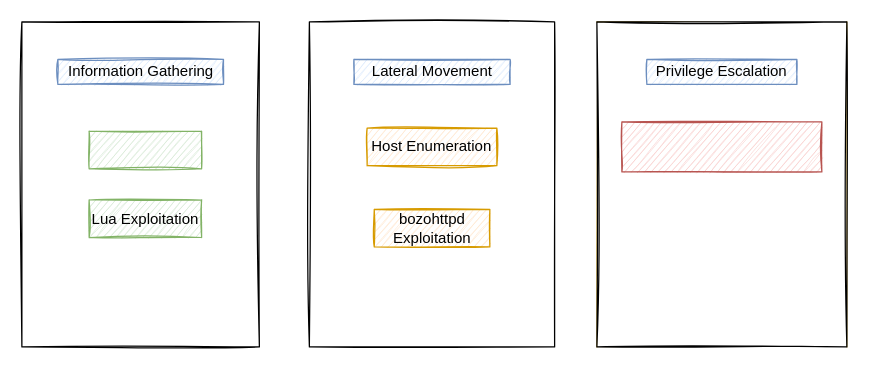
Image size: 869x369. Some labels were removed from this diagram. The shapes that lost their labels are listed below. From the top down, each one's box as (x1, y1, x2, y2) in pixels, then its label:
(88, 130, 202, 169): Web Enumeration
(621, 121, 822, 172): Host Enumeration and netpgp Decryption
